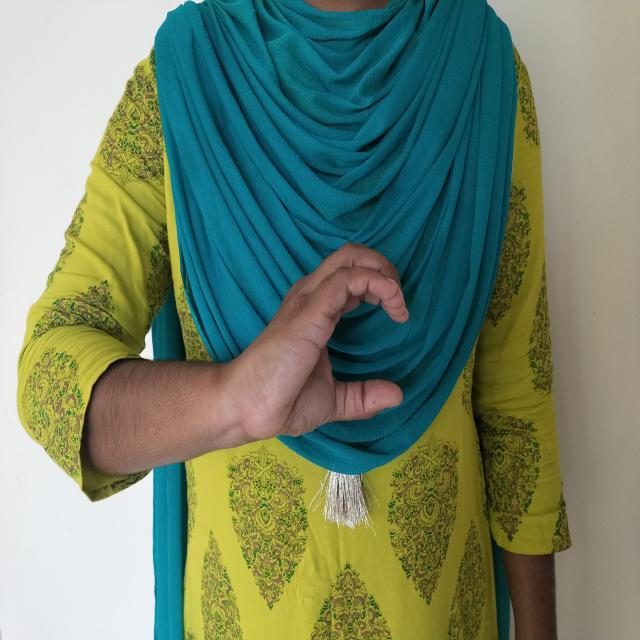c: (235, 232, 414, 459)
